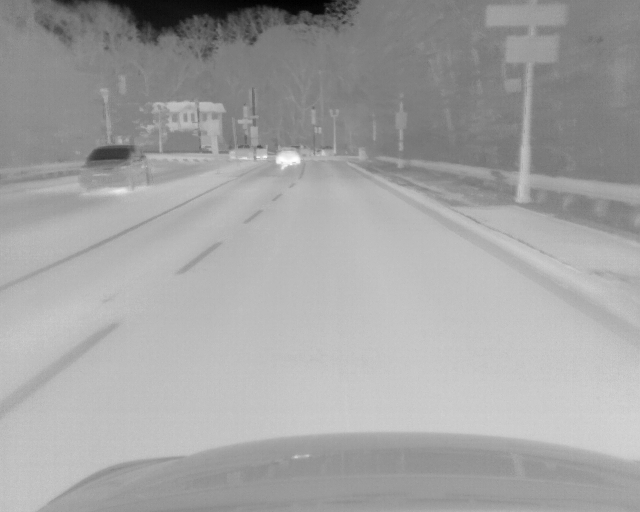car: (77, 145, 151, 191), (229, 143, 269, 160), (276, 146, 302, 169)
